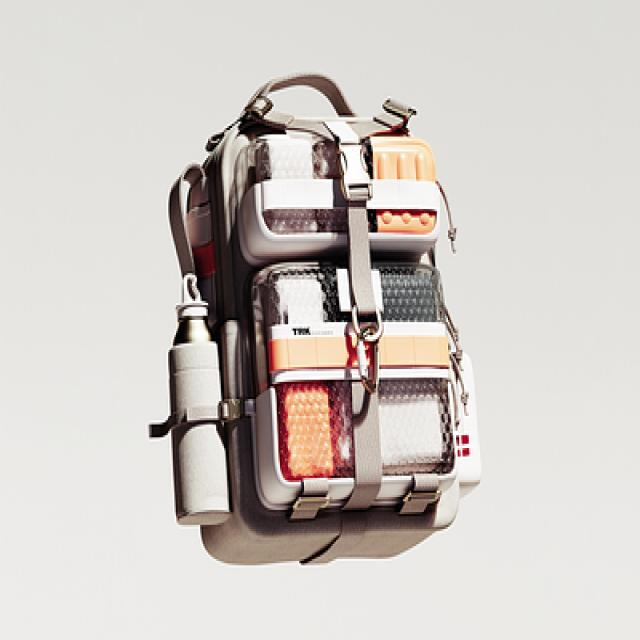backpack: (150, 72, 483, 567)
